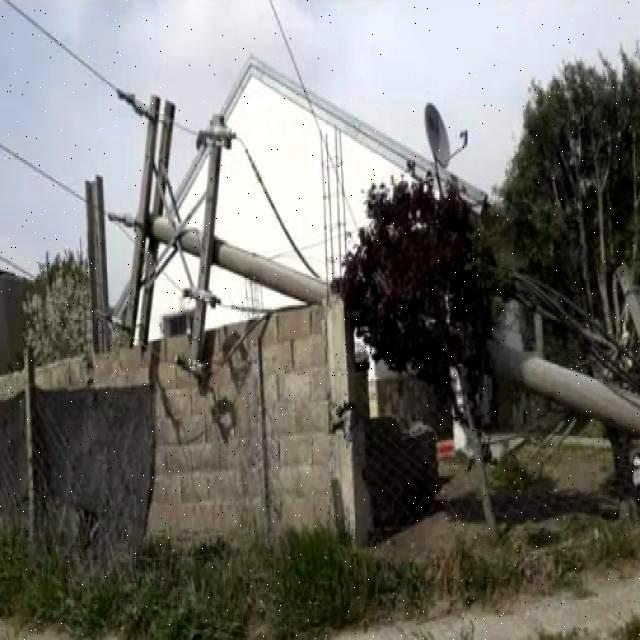Broken Pole: (124, 93, 636, 433)
